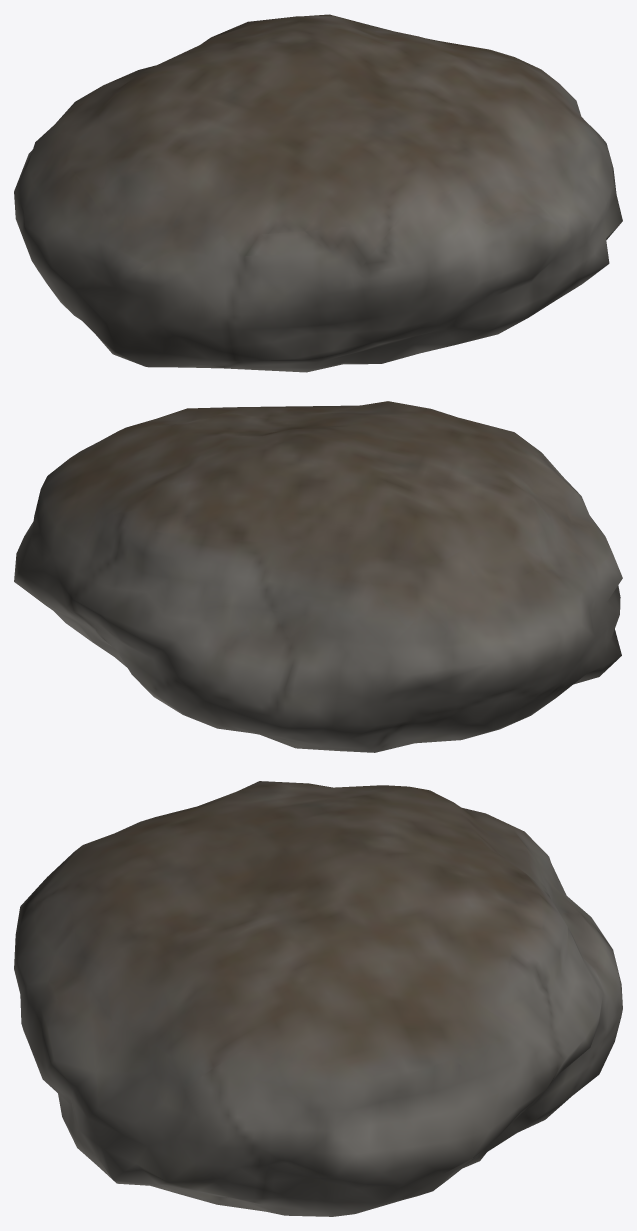
File: SM_rock_boulder_03.fbx
3 renders of one model, top to bottom at view 1: azimuth 30°, elevation 25°; view 2: azimuth 150°, elevation 25°; view 3: azimuth 270°, elevation 25°, orthographic. The views are drawn at different scales.
Parts seen in each view (by area): view 1: SM_rock_boulder_03; view 2: SM_rock_boulder_03; view 3: SM_rock_boulder_03.
Boxes of the visible parts, <box> form: SM_rock_boulder_03: <box>14,14,622,372</box>; SM_rock_boulder_03: <box>14,401,622,752</box>; SM_rock_boulder_03: <box>14,781,622,1216</box>.
Bounding box in the file's own units: 2.43 × 1.03 × 2.04.
